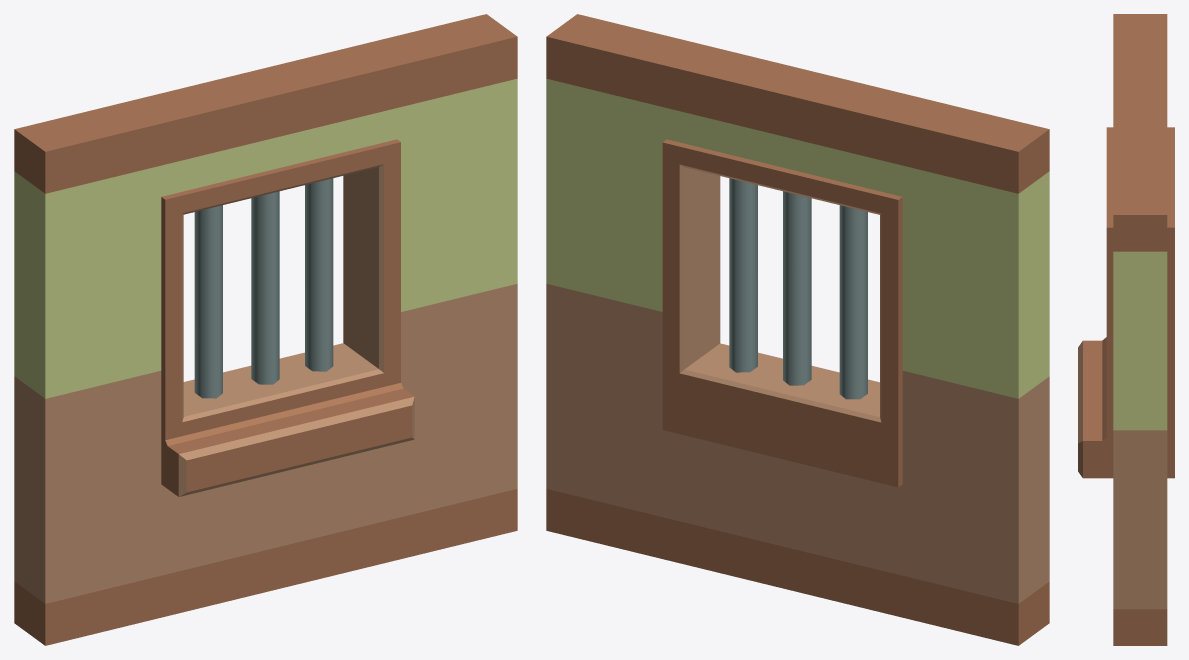
The model's file is Wall_hallway_window.fbx.
3 renders of one model, left to right at view 1: azimuth 30°, elevation 25°; view 2: azimuth 150°, elevation 25°; view 3: azimuth 270°, elevation 25°, orthographic. The views are drawn at different scales.
Visible parts, largest first — view 1: Wall_hallway_window; view 2: Wall_hallway_window; view 3: Wall_hallway_window.
Part boxes in pixels (x1,y1,x2,y2): Wall_hallway_window: [14, 14, 517, 645]; Wall_hallway_window: [546, 14, 1049, 645]; Wall_hallway_window: [1078, 14, 1174, 645].
Size of the model in its own units: 200 by 200 by 40.73.
